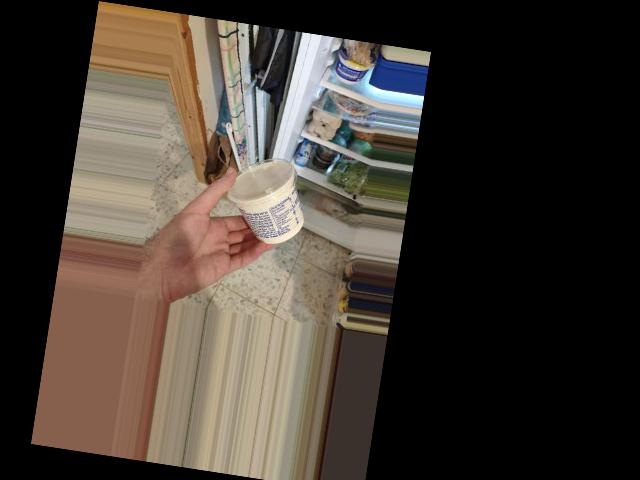cotage: (218, 151, 310, 240)
